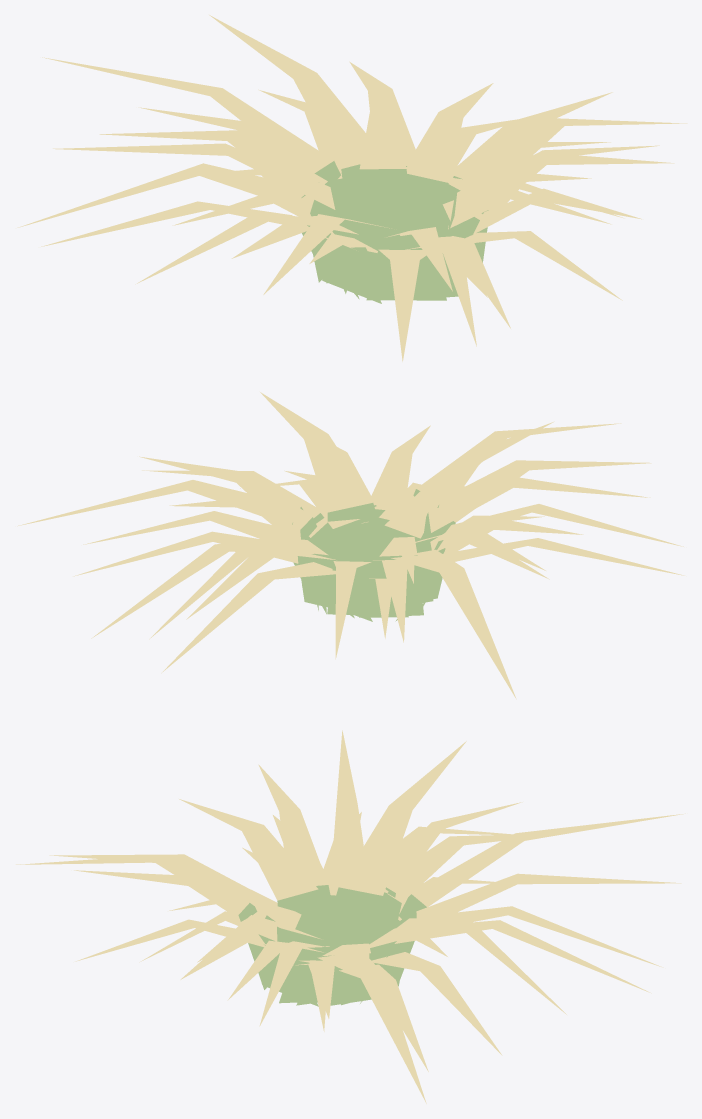
Rendered from Blender_Tussock_1.glb.
3 views of the same model, one above another, from view 1: azimuth 30°, elevation 25°; view 2: azimuth 150°, elevation 25°; view 3: azimuth 270°, elevation 25° (orthographic). The views are drawn at different scales.
Parts seen in each view (by area): view 1: Blender_Tussock_1; view 2: Blender_Tussock_1; view 3: Blender_Tussock_1.
Part boxes in pixels (x1,y1,x2,y2): Blender_Tussock_1: (17,15,687,361); Blender_Tussock_1: (17,392,684,699); Blender_Tussock_1: (16,730,685,1103).
Size of the model in its own units: 1.46 by 0.2734 by 1.37.
